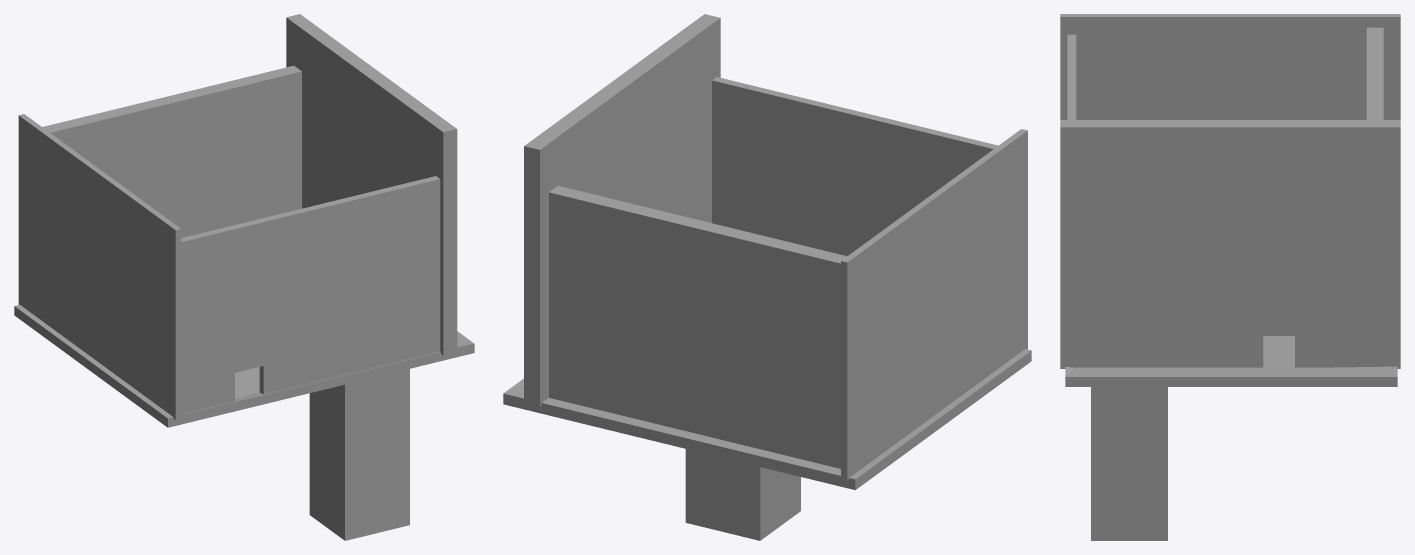
Rendered from комплек.fbx.
The picture shows the model from 3 angles, left to right: view 1: azimuth 30°, elevation 25°; view 2: azimuth 150°, elevation 25°; view 3: azimuth 270°, elevation 25°; orthographic projection. The views are drawn at different scales.
Parts seen in each view (by area): view 1: Cube.045, Cube.002, Cube.044, Cube.043, Cube.042; view 2: Cube.044, Cube.002, Cube.045, Cube.043, Cube.042; view 3: Cube.043, Cube.002, Cube.042, Cube.044, Cube.045.
Part boxes in pixels (left/top/right/bottom): Cube.045: left=181, top=176, right=440, bottom=414; Cube.002: left=18, top=114, right=181, bottom=420; Cube.044: left=42, top=65, right=301, bottom=237; Cube.043: left=286, top=14, right=457, bottom=355; Cube.042: left=14, top=305, right=474, bottom=540; Cube.044: left=549, top=185, right=846, bottom=468; Cube.002: left=841, top=129, right=1027, bottom=480; Cube.045: left=712, top=77, right=997, bottom=256; Cube.043: left=524, top=14, right=720, bottom=406; Cube.042: left=503, top=349, right=1031, bottom=540; Cube.043: left=1060, top=120, right=1400, bottom=368; Cube.002: left=1060, top=14, right=1400, bottom=119; Cube.042: left=1065, top=336, right=1397, bottom=540; Cube.044: left=1366, top=27, right=1383, bottom=119; Cube.045: left=1067, top=34, right=1076, bottom=119.
Size of the model in its own units: 4450 by 5526 by 3950.
